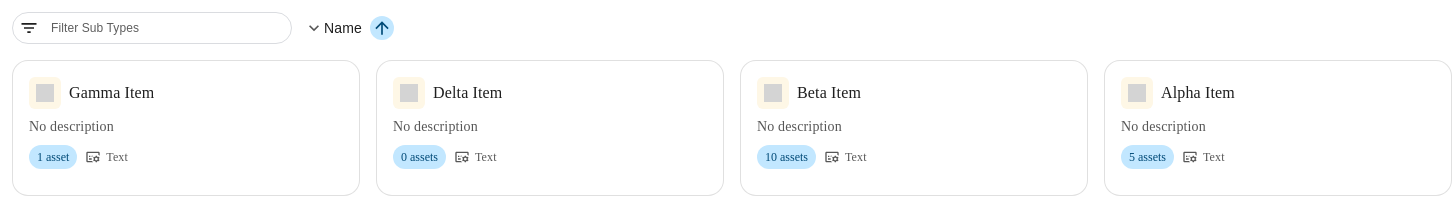
it: SubTypesTab › sort functionality › should open sort menu when sort button is clicked
Click the text "Name" at [333, 28], box [304,18,362,38]
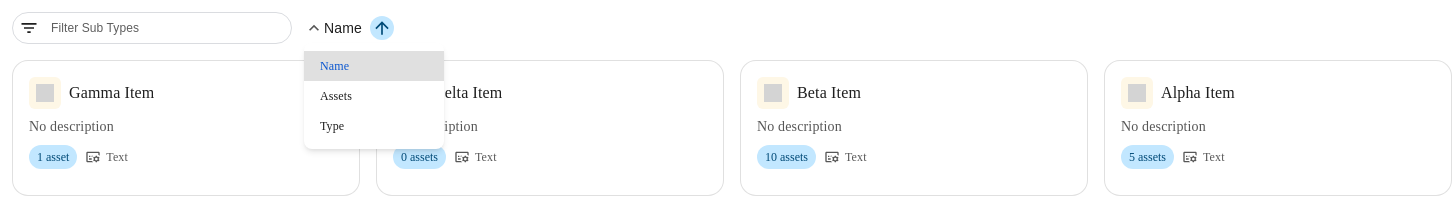
Now the menu item "Name" is shown, box [304,51,444,81]
Now the menu item "Assets" is shown, box [320,89,352,103]
Now the menu item "Type" is shown, box [320,119,344,133]
